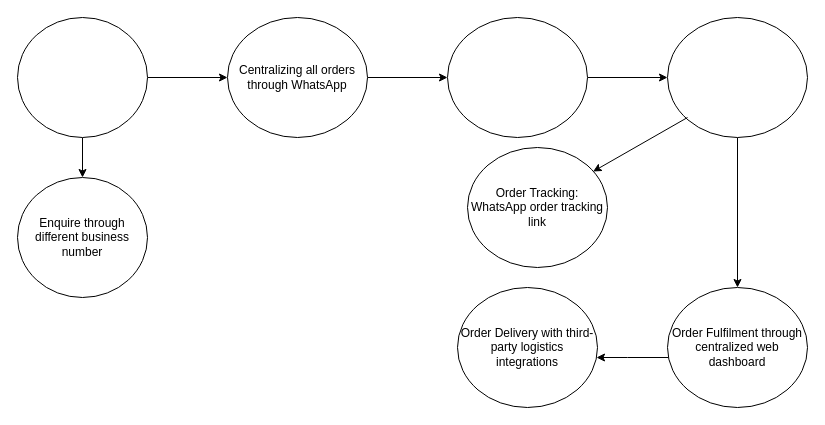
This 825x425 diagram has some shape labels left out. Each missing label, with the centre of its shape:
"Customer inside WhatsApp" belongs at (x=82, y=77).
"Payment Processing: DuitNow QR, Bank Transfer, Online Banking" belongs at (x=517, y=77).
"Payment Validation through OCR, email notification and API webhooks" belongs at (x=737, y=77).
